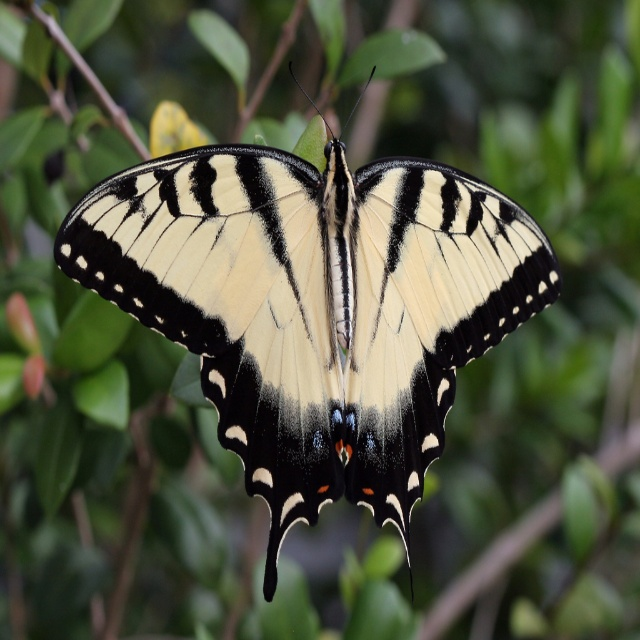Butterfly: (54, 33, 561, 565)
